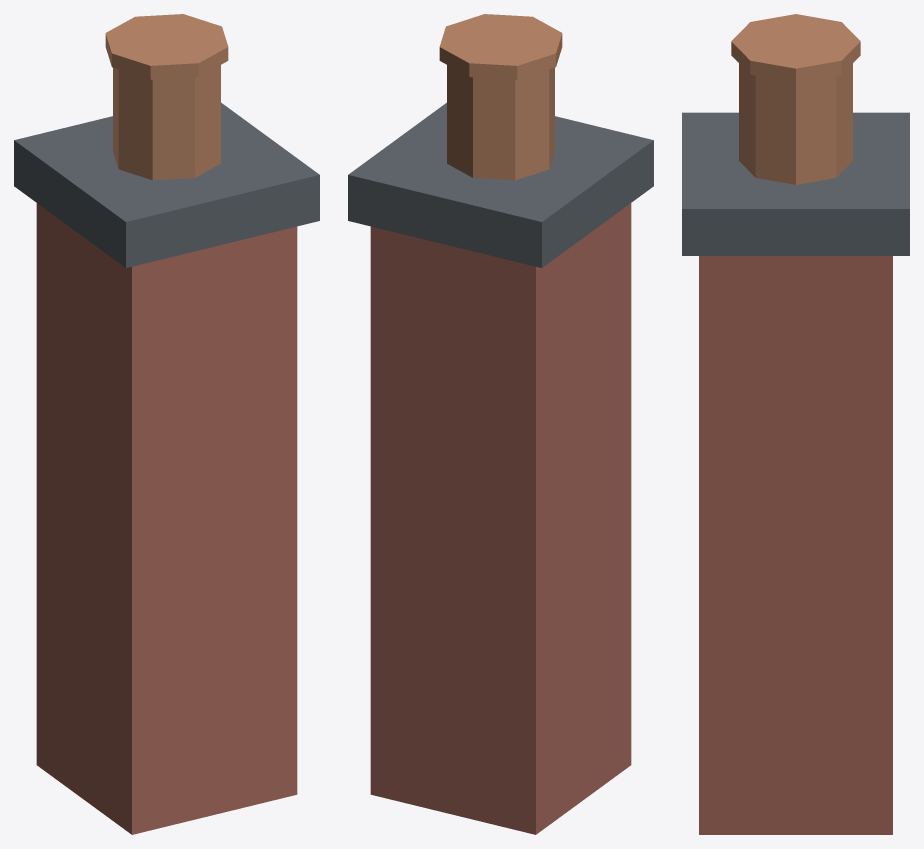
Rendered from arkham_chimney_singleflue.glb.
3 views of the same model, side by side, from view 1: azimuth 30°, elevation 25°; view 2: azimuth 150°, elevation 25°; view 3: azimuth 270°, elevation 25° (orthographic).
Parts seen in each view (by area): view 1: Arkham_Chimney_SingleFlue; view 2: Arkham_Chimney_SingleFlue; view 3: Arkham_Chimney_SingleFlue.
Boxes of the visible parts, <box> form: Arkham_Chimney_SingleFlue: <box>14,14,319,834</box>; Arkham_Chimney_SingleFlue: <box>348,14,653,834</box>; Arkham_Chimney_SingleFlue: <box>682,14,909,834</box>.
Size of the model in its own units: 0.88 by 3.21 by 0.88.
